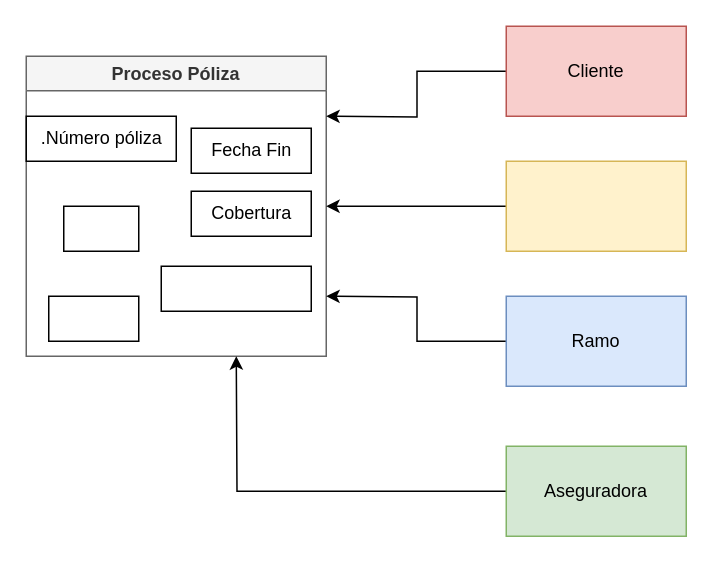
Some shapes in this 713 by 563 pixel diagram are drawn without their labels. The shapes that lost their labels are listed below. From the top down, each one's box as (x1, y1, x2, y2) in pixels, then its label:
(505, 160, 686, 251): Usuario
(62, 205, 139, 251): Prima
(160, 265, 311, 311): Fecha de inicio
(47, 295, 139, 341): Estado
